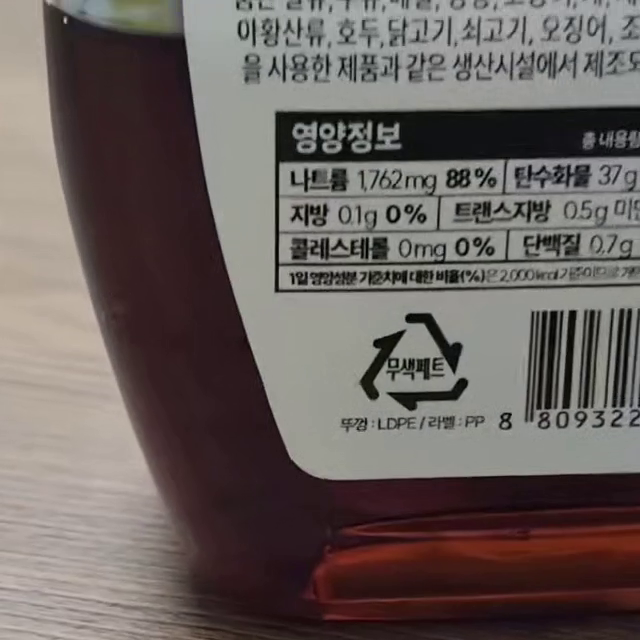ColorlessPet: (358, 312, 469, 412)
